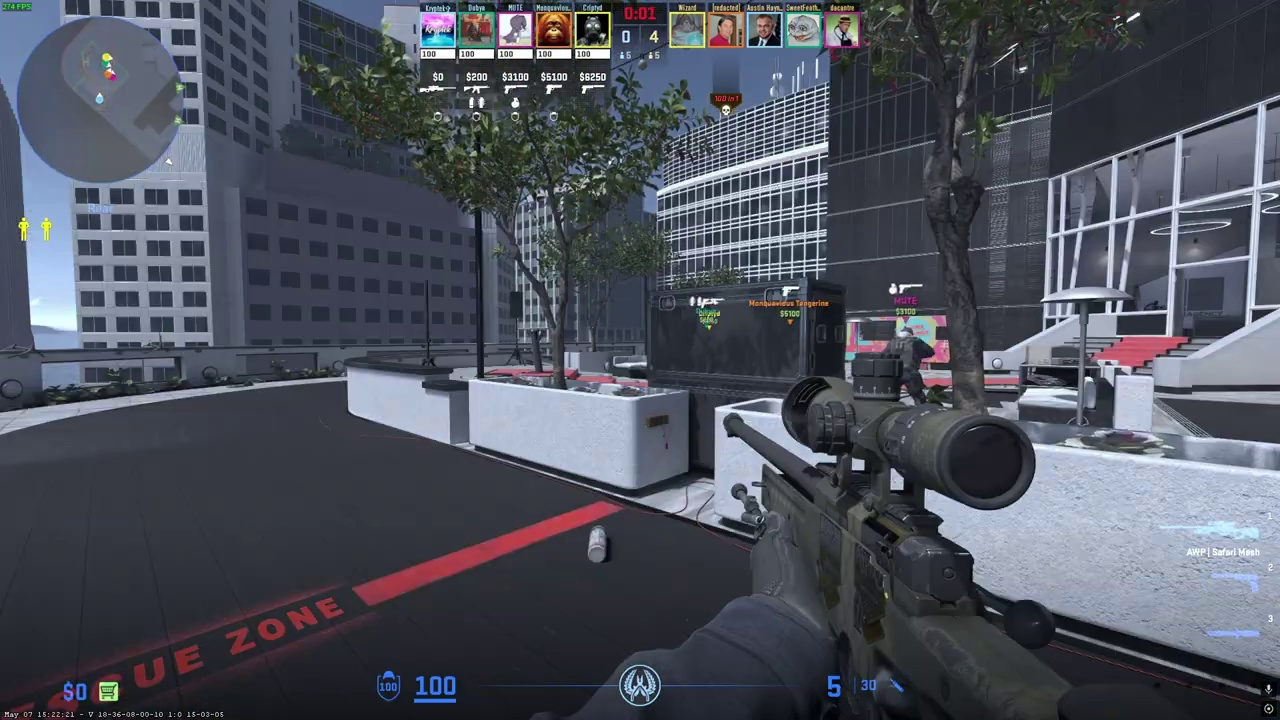CT: (886, 326, 929, 406)
